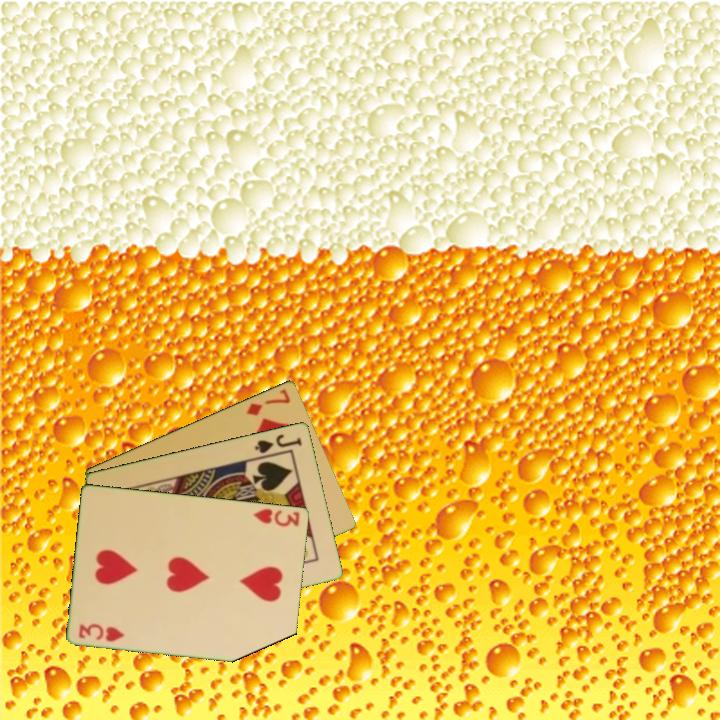3h: (75, 620, 127, 645), (250, 505, 303, 529)
7d: (242, 385, 293, 418)
Js: (251, 430, 305, 456)
